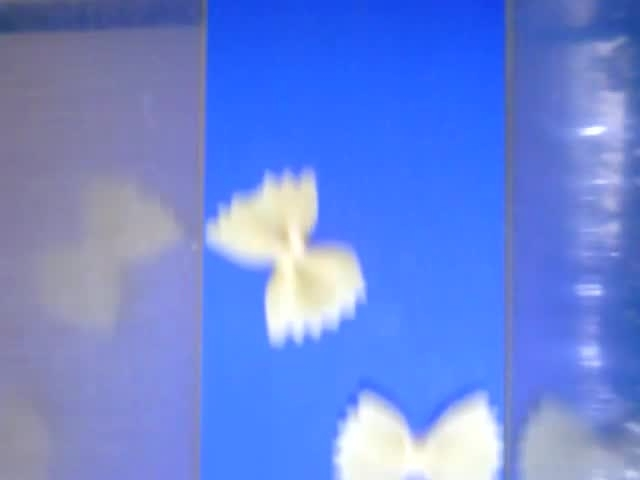farfalle: (203, 168, 371, 348), (333, 390, 504, 480)
